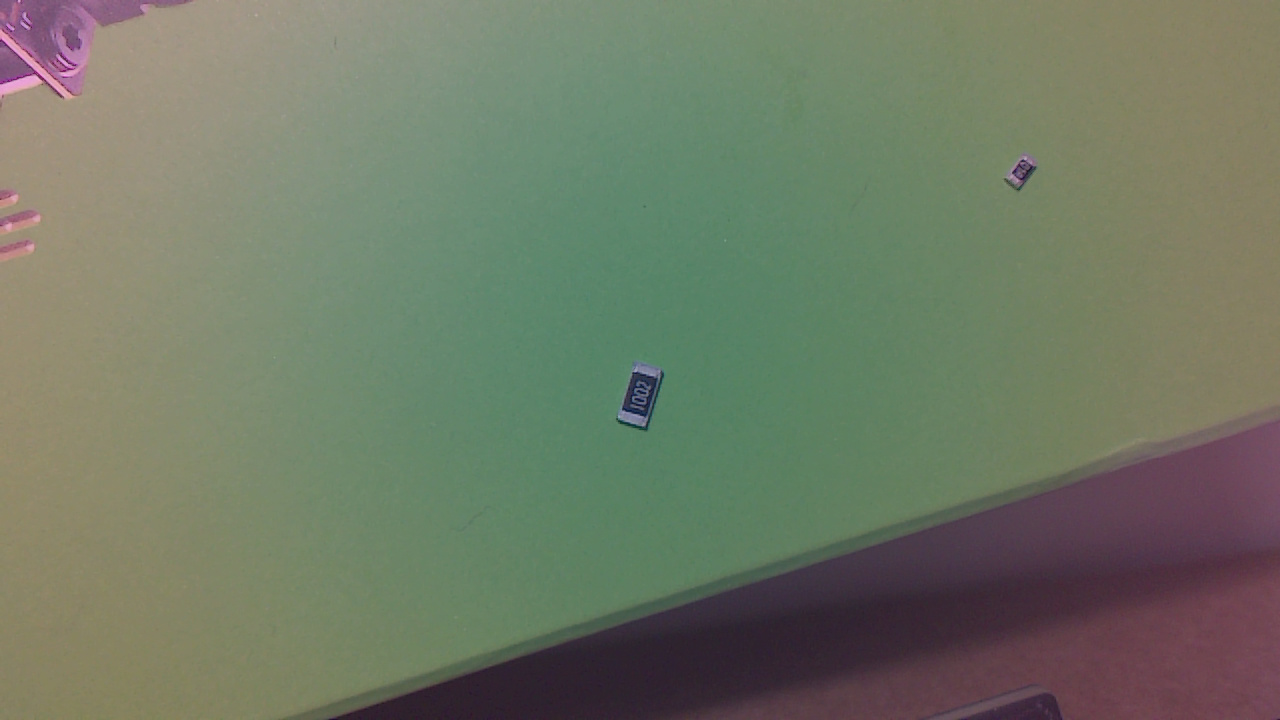Resistor: (618, 368, 669, 435), (1011, 157, 1040, 197)
